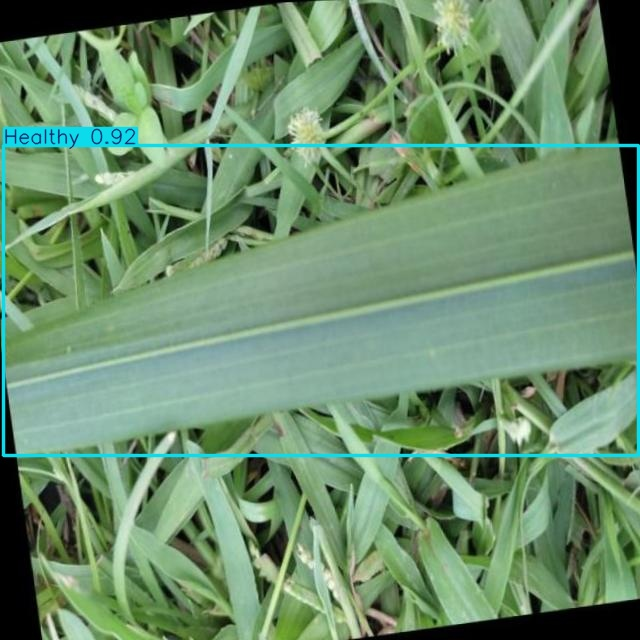Healthy: (4, 145, 638, 455)
